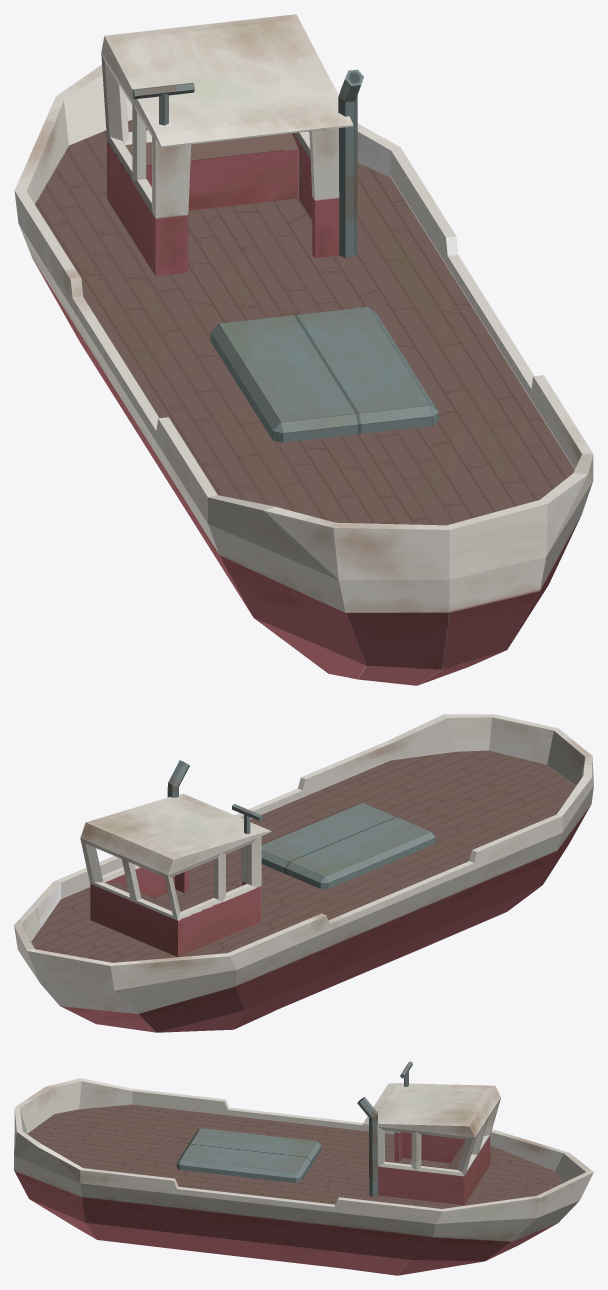
Rendered from fixed_boat.fbx.
3 renders of one model, top to bottom at view 1: azimuth 30°, elevation 25°; view 2: azimuth 150°, elevation 25°; view 3: azimuth 270°, elevation 25°, orthographic. The views are drawn at different scales.
Visible parts, largest first — view 1: Hull, Cabin, PitCover, Exhaust, Model; view 2: Hull, Cabin, PitCover, Exhaust; view 3: Hull, Cabin, PitCover, Exhaust.
Part boxes in pixels (box(x1,y1,x2,y2)): Hull: box(14, 64, 593, 685); Cabin: box(101, 14, 353, 275); PitCover: box(210, 307, 438, 442); Exhaust: box(338, 69, 363, 257); Model: box(132, 82, 194, 125); Hull: box(14, 714, 593, 1032); Cabin: box(80, 793, 271, 956); PitCover: box(261, 802, 435, 888); Exhaust: box(167, 760, 189, 797); Hull: box(14, 1078, 593, 1275); Cabin: box(362, 1083, 500, 1205); PitCover: box(176, 1128, 321, 1182); Exhaust: box(357, 1097, 378, 1196).
Bounding box in the file's own units: 10.54 × 7.41 × 21.05.
